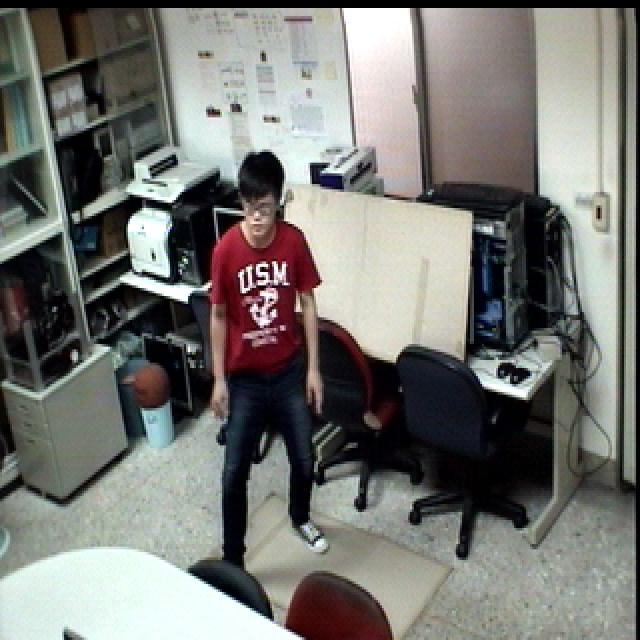stand: (204, 146, 333, 593)
